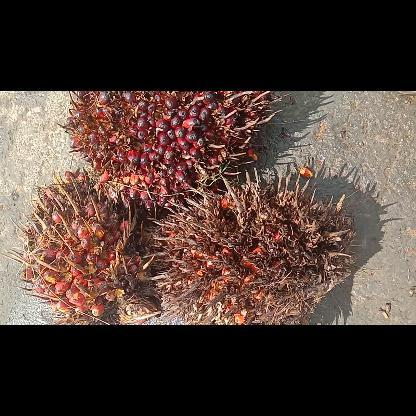TBS masak: (62, 90, 282, 209), (2, 166, 158, 324)
Terlalu masak: (142, 168, 354, 324)
